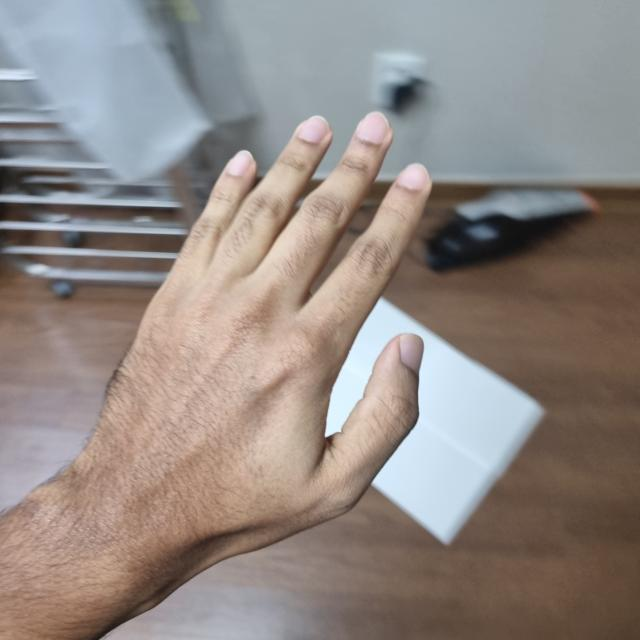Paper: (82, 114, 432, 556)
